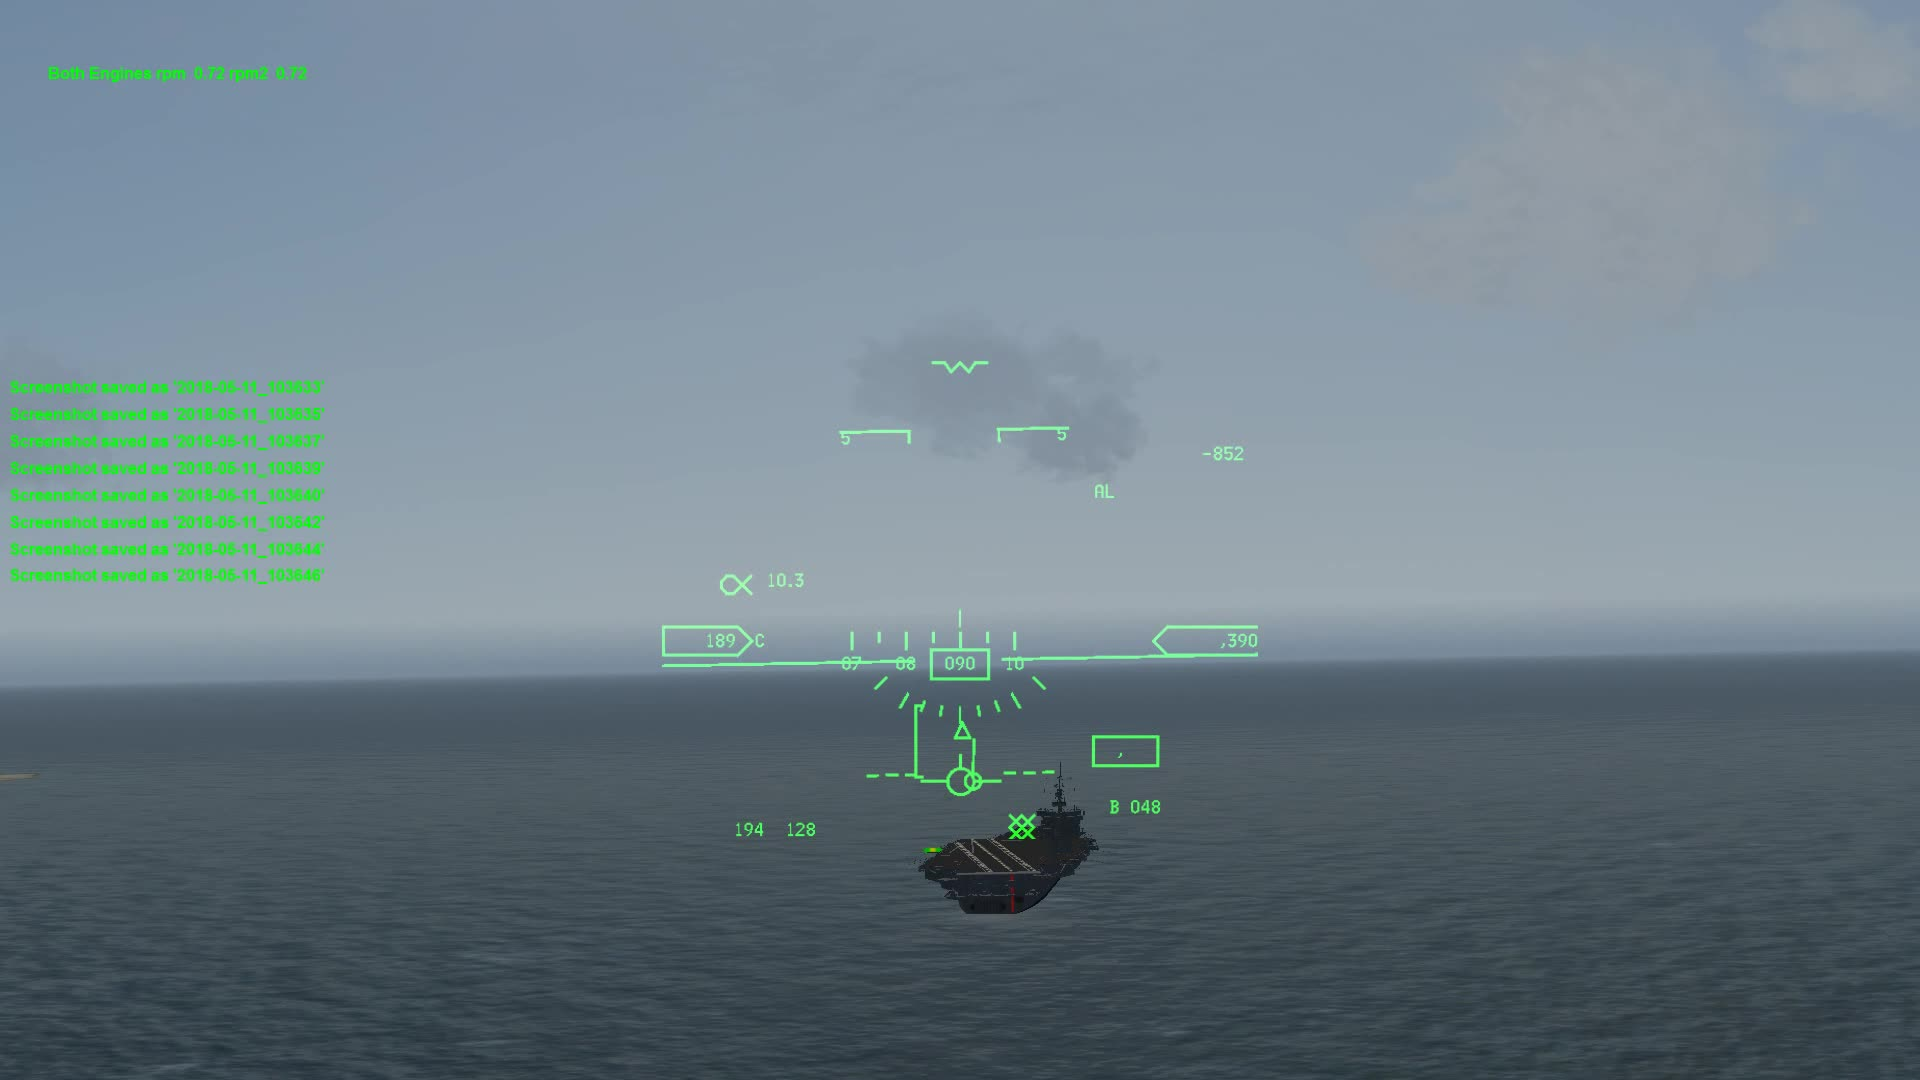speed vector: (922, 752, 1000, 799)
